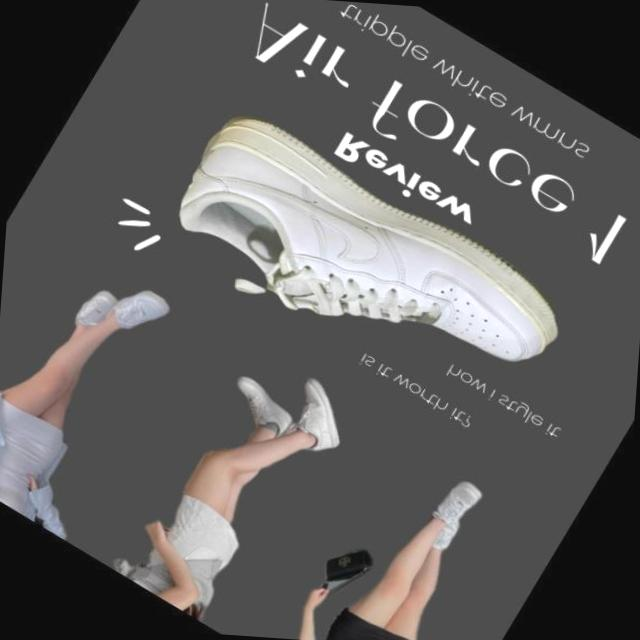nike_original_airforce: (144, 88, 590, 432)
